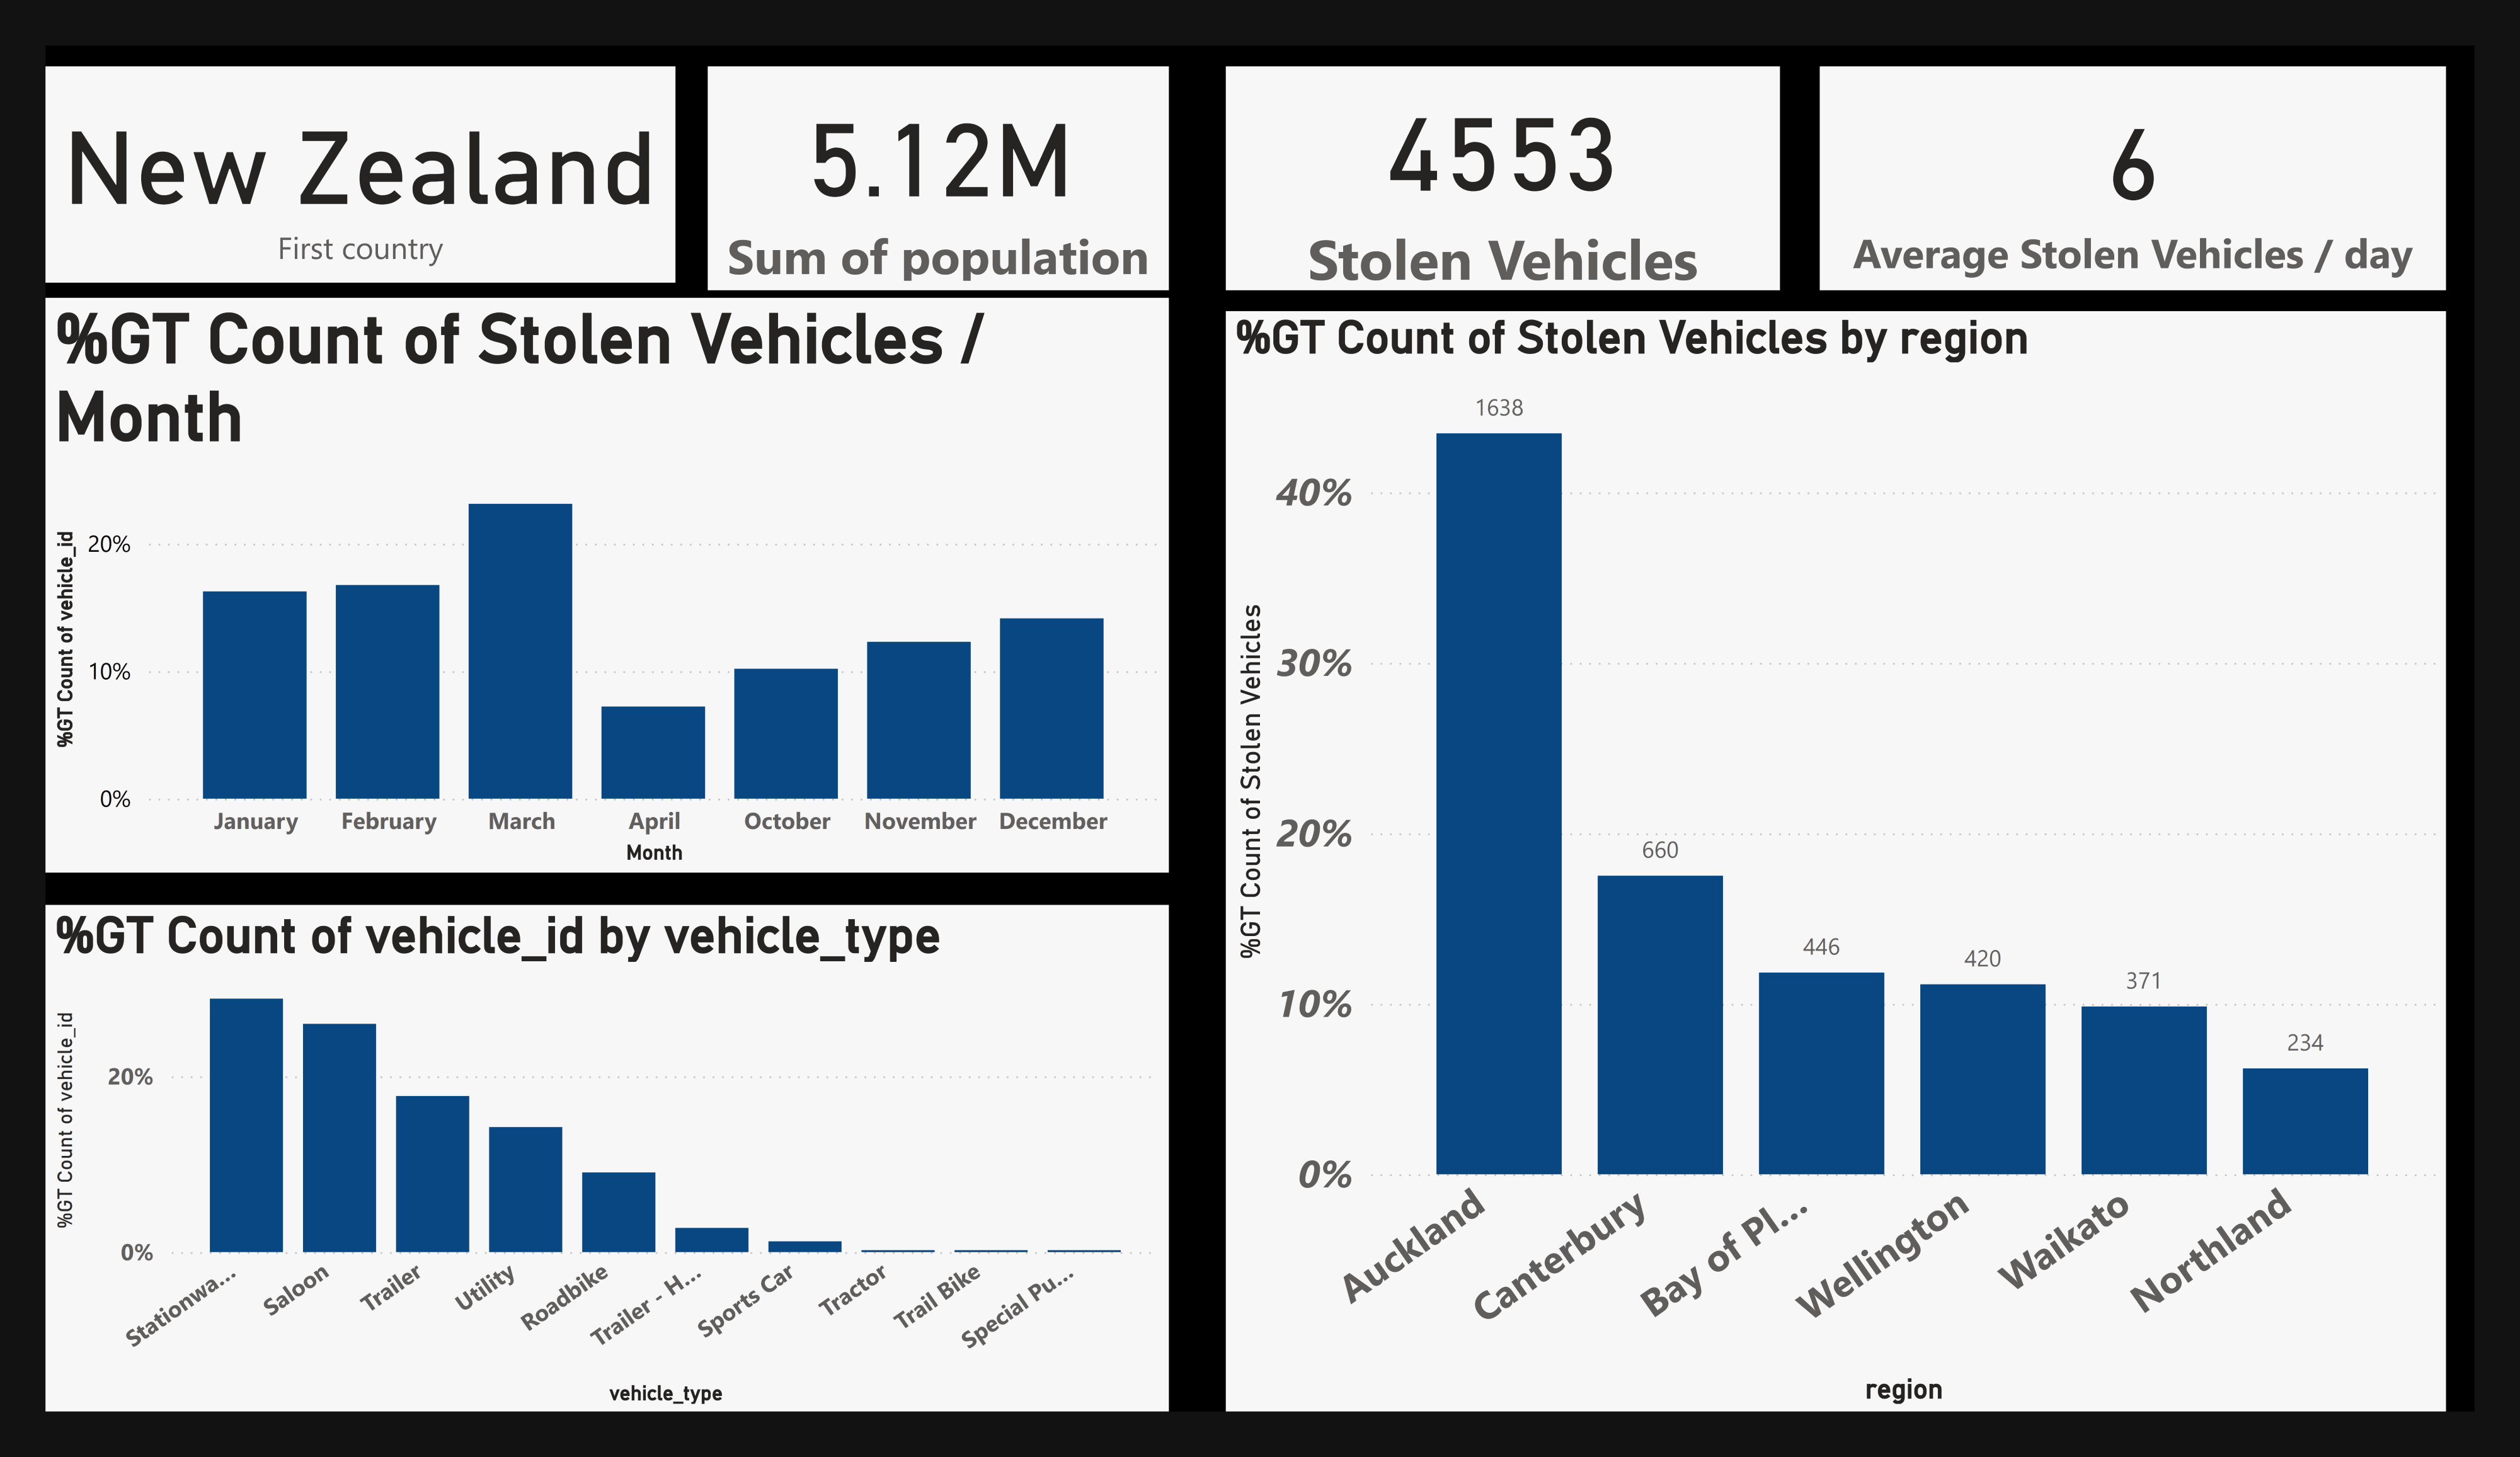

This screenshot's page, from the dashboard's own definition file:
{"tool":"powerbi","page":{"name":"DashBoard","canvas":[1280,720],"ordinal":5},"visuals":[{"type":"card","fields":{"Values":["Count(stolen_vehicles.vehicle_id)"]},"box":[622,11.4,292,117.6],"z":0},{"type":"card","fields":{"Values":["Sum(locations.population)"]},"box":[348.9,11.4,242.7,117.6],"z":1000},{"type":"card","fields":{"Values":["locations.vehicle_id divided by Count of Day"]},"box":[934.9,11.4,330,117.6],"z":2000},{"type":"card","fields":{"Values":["Min(locations.country)"]},"box":[0,11.4,331.9,113.8],"z":3000},{"type":"columnChart","title":"%GT Count of Stolen Vehicles / Month","fields":{"Category":["stolen_vehicles.date_stolen.Variation.Date Hierarchy.Year","stolen_vehicles.date_stolen.Variation.Date Hierarchy.Month"],"Y":["Divide(Count(stolen_vehicles.vehicle_id), ScopedEval(Count(stolen_vehicles.vehicle_id), []))"]},"box":[0,132.7,591.6,303.4],"z":4000},{"type":"columnChart","fields":{"Category":["locations.region"],"Y":["Sum(stolen_vehicles.vehicle_id)"]},"box":[622,140.3,642.8,580.3],"z":4001},{"type":"columnChart","fields":{"Category":["stolen_vehicles.vehicle_type"],"Y":["Sum(stolen_vehicles.vehicle_id)"]},"box":[0,453.2,591.6,267.4],"z":4002}]}

Visuals, with their boxes in screenshot pixels (x1, y1, x2, y2), scaled from the page's 1280x720 canvas onto the 2520x1457 screenshot:
card - Count(stolen_vehicles.vehicle_id): crop(1225, 23, 1799, 261)
card - Sum(locations.population): crop(687, 23, 1165, 261)
card - locations.vehicle_id divided by Count of Day: crop(1841, 23, 2490, 261)
card - Min(locations.country): crop(0, 23, 653, 253)
"%GT Count of Stolen Vehicles / Month" columnChart: crop(0, 268, 1165, 883)
columnChart - locations.region x Sum(stolen_vehicles.vehicle_id): crop(1225, 284, 2490, 1456)
columnChart - stolen_vehicles.vehicle_type x Sum(stolen_vehicles.vehicle_id): crop(0, 917, 1165, 1456)
